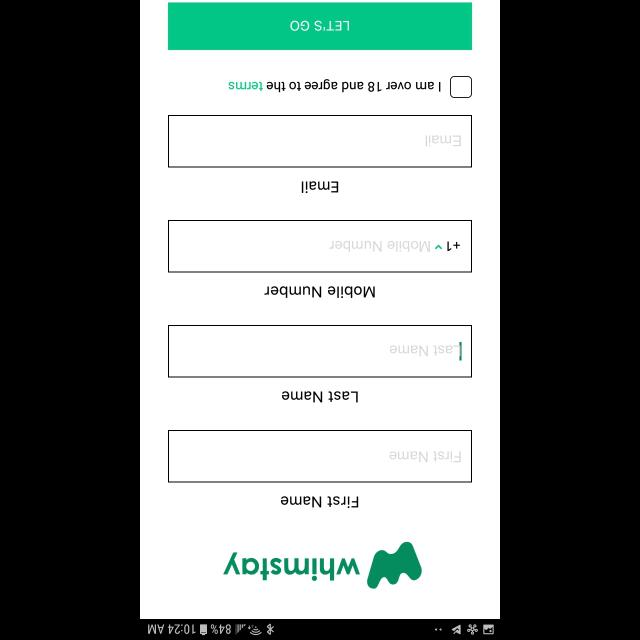checkbox: (450, 76, 472, 98)
icon: (434, 245, 442, 249)
image: (366, 542, 422, 588)
input: (168, 430, 472, 482), (168, 115, 472, 167), (168, 220, 472, 272), (168, 325, 472, 377)
text: (222, 552, 360, 580), (228, 79, 440, 93), (264, 286, 374, 298), (329, 240, 429, 252), (281, 496, 359, 508), (388, 344, 459, 356), (282, 391, 358, 402), (390, 451, 460, 462), (302, 181, 338, 193), (426, 136, 460, 146), (446, 242, 459, 250)
textbutton: (168, 2, 472, 50)
uppertaskbar: (140, 618, 500, 640)
